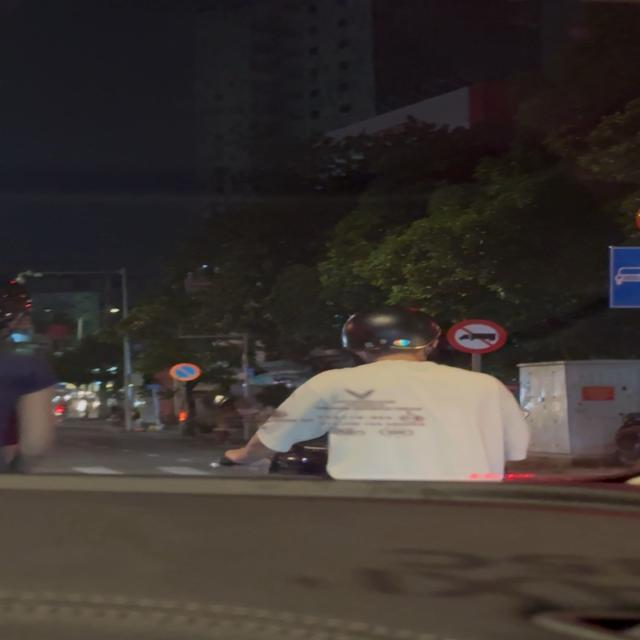Bien bao cam do xe: (168, 361, 204, 382)
Bien bao cam xe so-mi ro-mooc: (439, 315, 517, 355)
